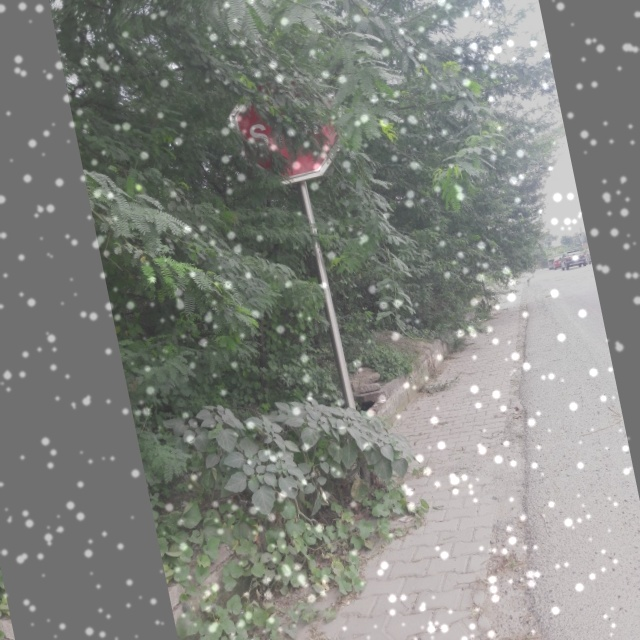Stop: (224, 72, 345, 193)
